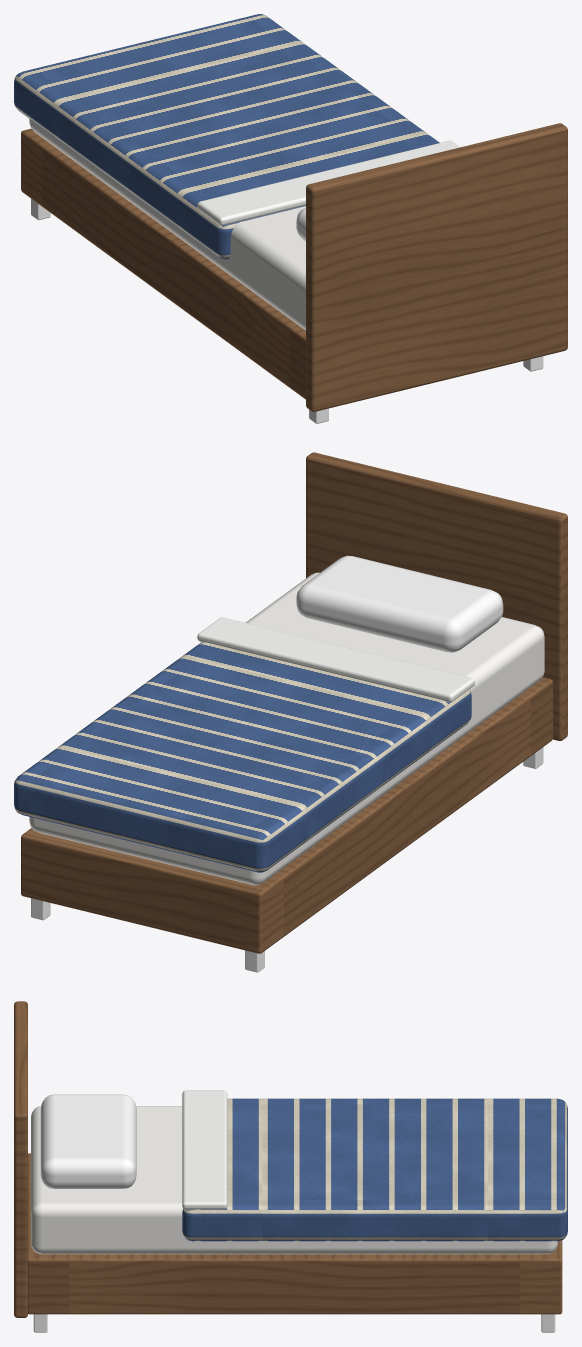
File: mueble.cama.fbx
3 views of the same model, one above another, from view 1: azimuth 30°, elevation 25°; view 2: azimuth 150°, elevation 25°; view 3: azimuth 270°, elevation 25° (orthographic). The views are drawn at different scales.
Parts seen in each view (by area): view 1: Cabecera, Frazada, Base, Colchon, Sabana doblada; view 2: Frazada, Base, Cabecera, Colchon, Almohada, Sabana doblada; view 3: Frazada, Base, Colchon, Almohada, Sabana doblada, Cabecera.
Part boxes in pixels (x1,y1,x2,y2): Cabecera: [306, 123, 567, 411]; Frazada: [14, 14, 439, 259]; Base: [21, 128, 305, 399]; Colchon: [29, 119, 305, 330]; Sabana doblada: [197, 140, 459, 225]; Frazada: [14, 642, 471, 872]; Base: [21, 677, 552, 953]; Cabecera: [306, 452, 567, 740]; Colchon: [29, 572, 544, 885]; Almohada: [296, 555, 503, 652]; Sabana doblada: [197, 617, 474, 702]; Frazada: [182, 1098, 567, 1241]; Base: [28, 1153, 562, 1314]; Colchon: [31, 1106, 557, 1254]; Almohada: [40, 1094, 136, 1188]; Sabana doblada: [182, 1090, 227, 1209]; Cabecera: [14, 1001, 27, 1317].
Size of the model in its own units: 0.96 by 0.88 by 1.97.
Materials: 6 (2 with a texture image).
